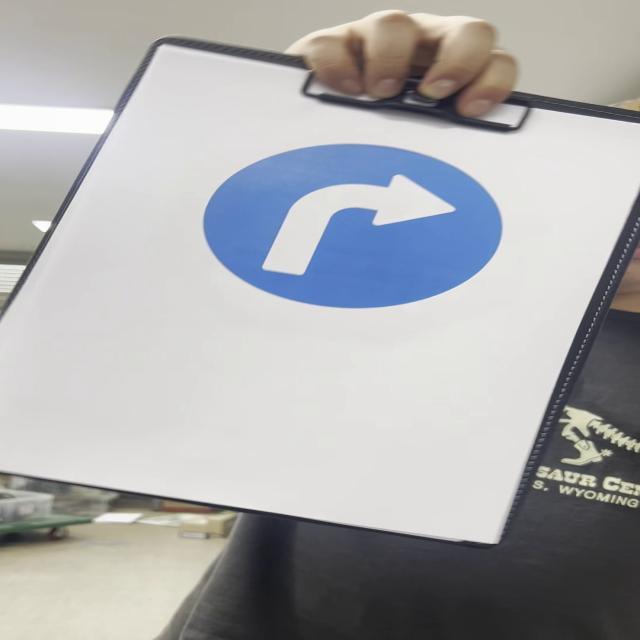right: (204, 146, 501, 309)
